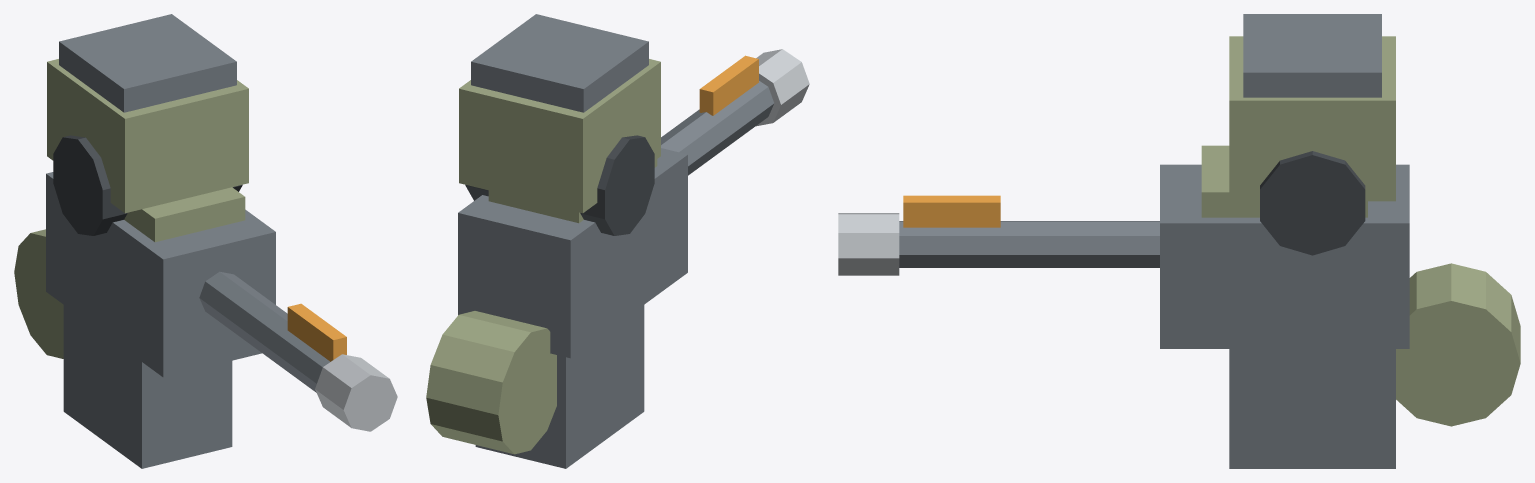
File: mech-hangar-and-battle-frames-autocannon-arm-a70eb09a__26851.glb
3 renders of one model, left to right at view 1: azimuth 30°, elevation 25°; view 2: azimuth 150°, elevation 25°; view 3: azimuth 270°, elevation 25°, orthographic. The views are drawn at different scales.
Visible parts, largest first — view 1: gun (×4), autocannon-arm; view 2: gun (×4), autocannon-arm; view 3: gun (×4), autocannon-arm.
Part boxes in pixels (left/top/right/bottom): gun (×4): left=14, top=172, right=397, bottom=468; autocannon-arm: left=47, top=14, right=248, bottom=235; gun (×4): left=426, top=49, right=809, bottom=468; autocannon-arm: left=459, top=14, right=660, bottom=235; gun (×4): left=838, top=145, right=1520, bottom=468; autocannon-arm: left=1229, top=14, right=1395, bottom=255.
Bounding box in the file's own units: 0.62 × 1.6 × 2.46.
